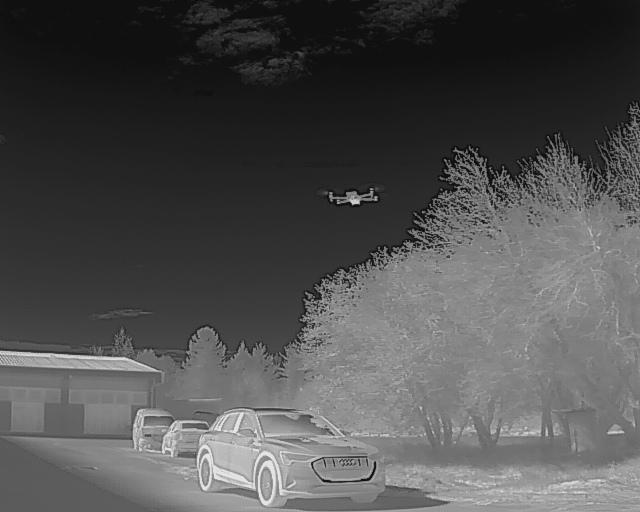drone: (313, 179, 391, 215)
